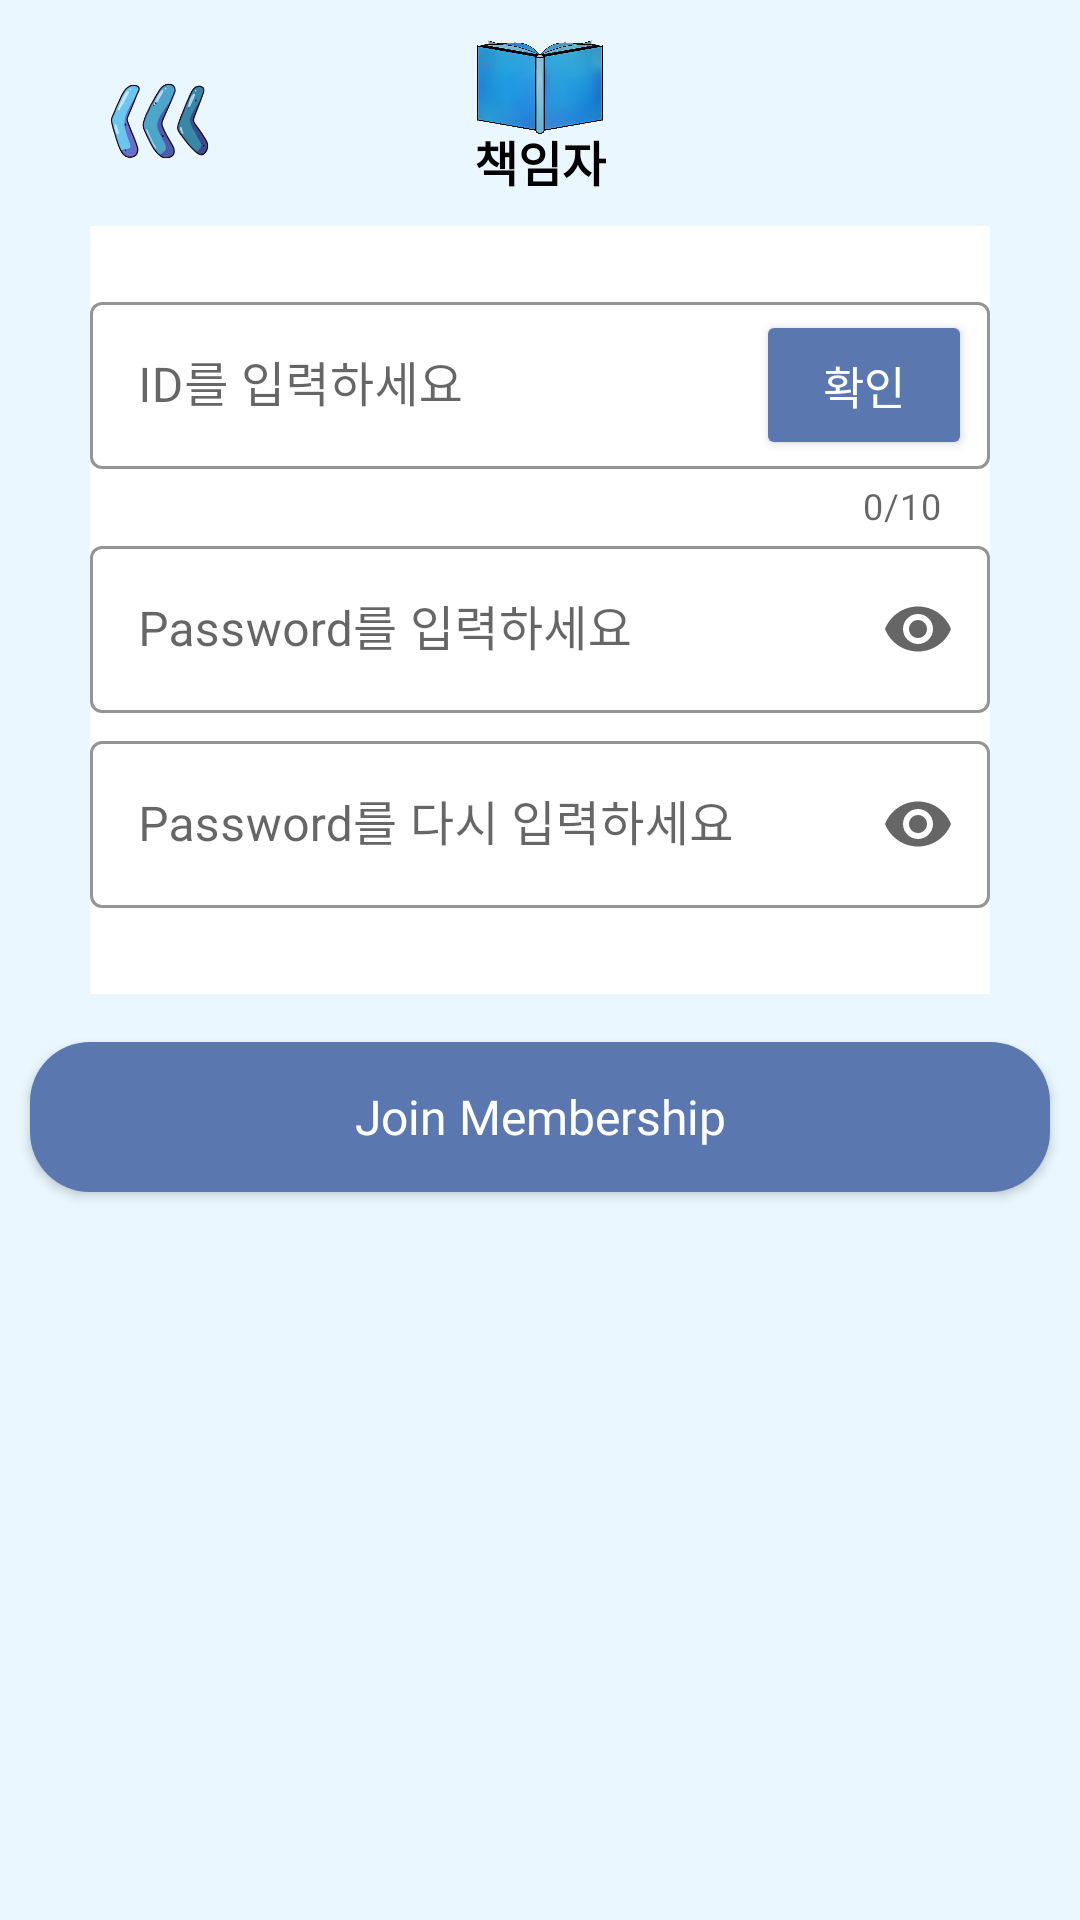

Icon click points for this 1080 × 1920 phone screenshot, format (x,y):
before: (159,120)
book: (540,87)
